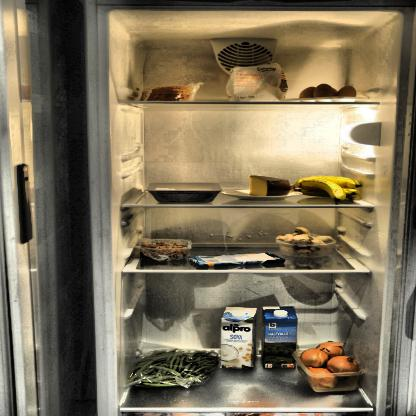banana: (290, 176, 364, 200)
cheese: (248, 174, 292, 198)
chicken: (144, 179, 222, 202)
chocolate: (195, 251, 288, 268)
eggs: (298, 82, 358, 103)
green_beans: (130, 344, 213, 396)
milk: (219, 306, 256, 371), (262, 305, 296, 371)
mushrooms: (276, 227, 336, 257)
onion: (300, 342, 364, 394)
shrimp: (133, 238, 191, 262)
